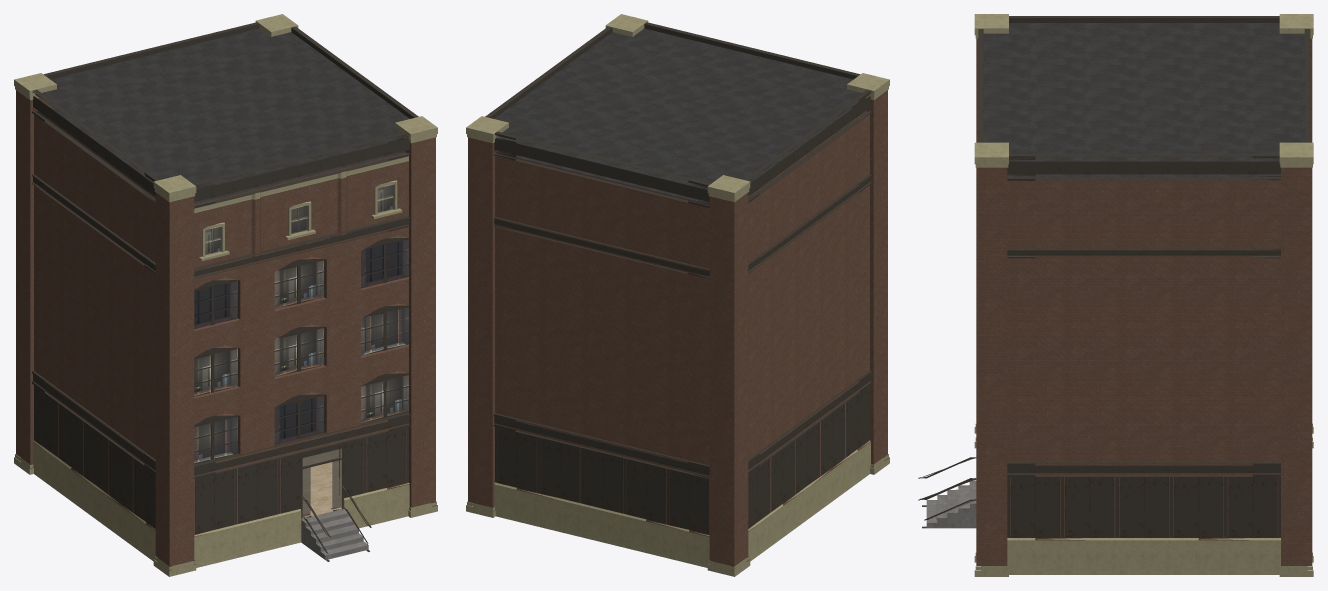
Rendered from Building_Small_1.glb.
The picture shows the model from 3 angles, left to right: view 1: azimuth 30°, elevation 25°; view 2: azimuth 150°, elevation 25°; view 3: azimuth 270°, elevation 25°; orthographic projection. The views are drawn at different scales.
Visible parts, largest first — view 1: Building_Small_1; view 2: Building_Small_1; view 3: Building_Small_1.
Boxes of the visible parts, left/top/right/bottom form: Building_Small_1: left=14, top=14, right=437, bottom=576; Building_Small_1: left=466, top=14, right=889, bottom=576; Building_Small_1: left=918, top=14, right=1313, bottom=576.
Bounding box in the file's own units: 12.46 × 17.03 × 14.54.
Materials: 10 (9 with a texture image).
